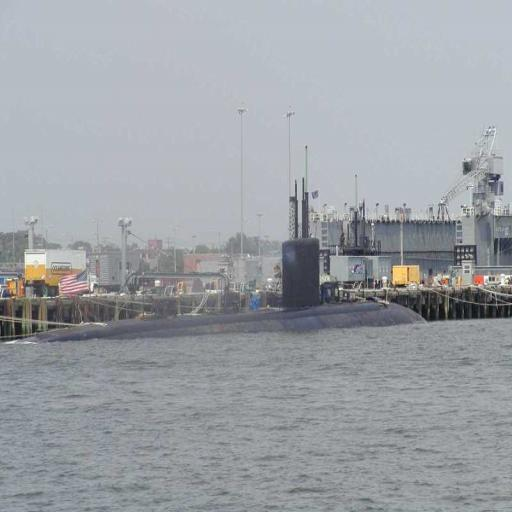submarine: (8, 140, 434, 348)
